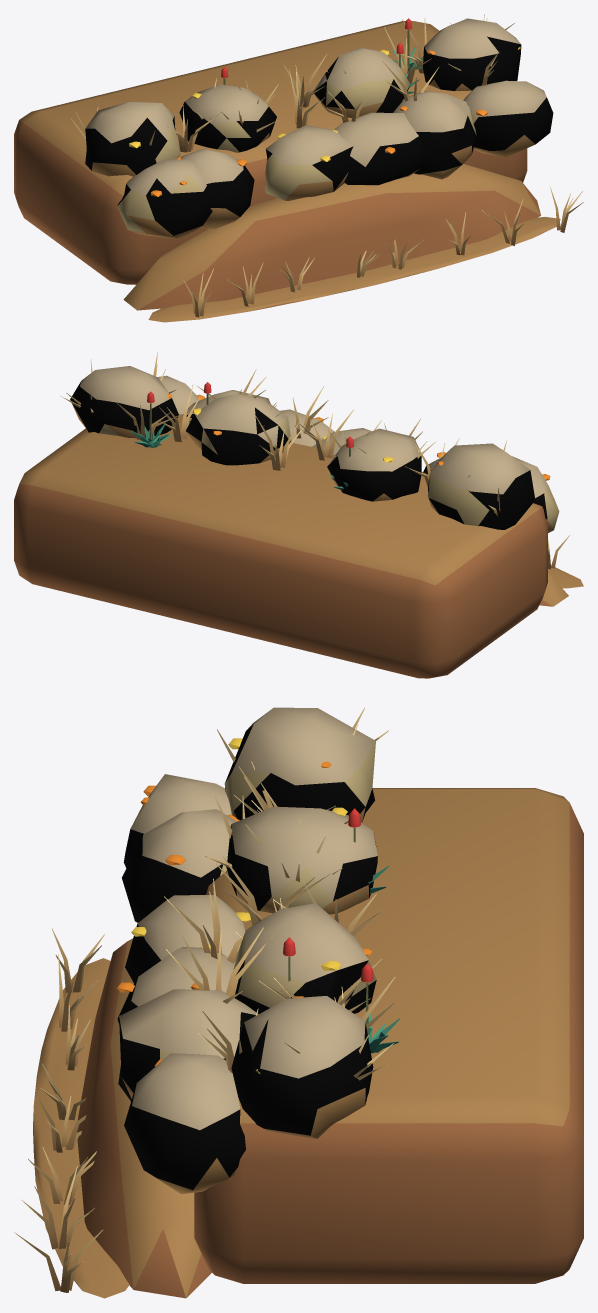
Rendered from SavannaRidgeA.fbx.
The picture shows the model from 3 angles, top to bottom: view 1: azimuth 30°, elevation 25°; view 2: azimuth 150°, elevation 25°; view 3: azimuth 270°, elevation 25°; orthographic projection. The views are drawn at different scales.
Parts seen in each view (by area): view 1: SavannaRidgeA; view 2: SavannaRidgeA; view 3: SavannaRidgeA.
Part boxes in pixels (x1,y1,x2,y2): SavannaRidgeA: (14, 14, 583, 322); SavannaRidgeA: (14, 351, 583, 678); SavannaRidgeA: (14, 707, 583, 1298).
Bounding box in the file's own units: 7.85 × 2.81 × 5.27.
Materials: 1 (1 with a texture image).
